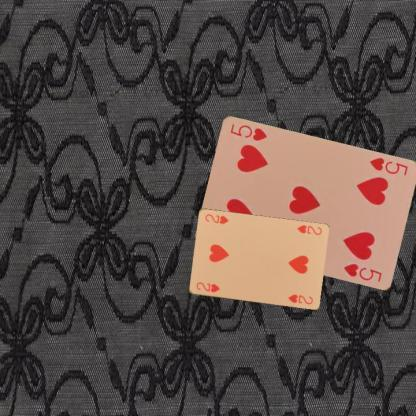2h: (294, 222, 323, 236), (194, 280, 221, 294)
5h: (366, 155, 409, 177)
